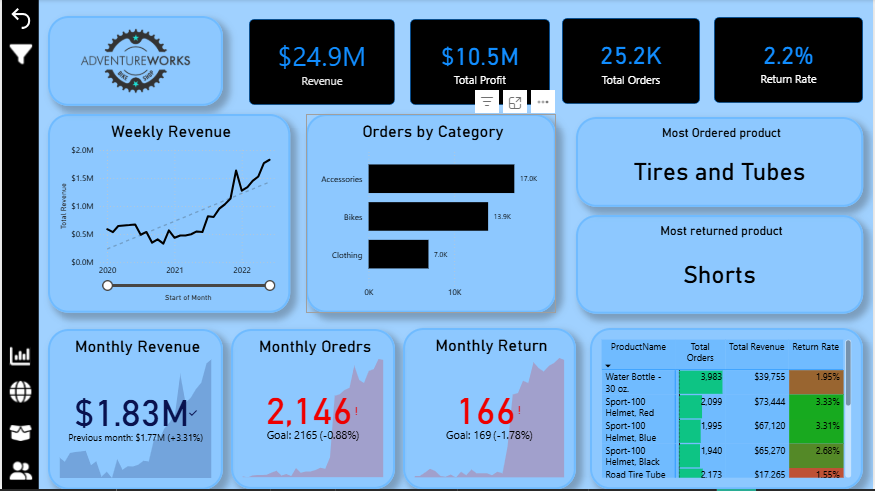

The dashboard page shown, as its layout file describes it:
{"tool":"powerbi","page":{"name":"Executive Dashboard","canvas":[1280,720],"ordinal":0},"visuals":[{"type":"image","box":[67.6,25,257.1,132.2],"z":0},{"type":"group","id":"g1","title":"KPI Background","box":[362.9,26.4,901.7,129.1],"z":0,"group":"g3"},{"type":"shape","box":[362.9,28.9,214.5,126.3],"z":0,"group":"g1"},{"type":"card","fields":{"Values":["Sum(Sales Data.Revenue)"]},"box":[362.9,29.3,214.5,126.3],"z":0,"group":"g2"},{"type":"actionButton","box":[7.3,499.6,38.5,51.4],"z":0,"group":"g4"},{"type":"shape","title":"Left Nav Background","box":[0,0,54.4,720],"z":1000},{"type":"group","id":"g2","title":"KPI Values","box":[362.9,26.4,901.7,129.1],"z":1000,"group":"g3"},{"type":"shape","box":[823,28.3,202.8,126.3],"z":1000,"group":"g1"},{"type":"card","fields":{"Values":["Measure Table.Total Profit"]},"box":[599.3,29.3,205.7,123.4],"z":1000,"group":"g2"},{"type":"actionButton","box":[7.3,545.2,39.8,64.7],"z":1000,"group":"g4"},{"type":"group","id":"g3","title":"KPIs","box":[362.9,26.4,902.2,130.8],"z":2000},{"type":"card","fields":{"Values":["Measure Table.Total Orders"]},"box":[822.5,27.8,202.8,124.8],"z":2000,"group":"g2"},{"type":"shape","box":[598.9,28.9,205.7,126.3],"z":2000,"group":"g1"},{"type":"actionButton","box":[7.8,609.4,40,55.8],"z":2000,"group":"g4"},{"type":"card","fields":{"Values":["Measure Table.Return Rate"]},"box":[1045.8,26.4,218.9,126.3],"z":3000,"group":"g2"},{"type":"shape","box":[1046.2,26.4,218.9,126.3],"z":3000,"group":"g1"},{"type":"lineChart","title":"Weekly Revenue","fields":{"Y":["Measure Table.Total Revenue"],"Category":["Calendar Lookup.Start of Year","Calendar Lookup.Start of Quarter","Calendar Lookup.Date Hierarchy.Start of Month"]},"box":[67.6,169,355.6,292.4],"z":3000},{"type":"actionButton","box":[7.8,665.2,41.1,54.4],"z":3000,"group":"g4"},{"type":"kpi","title":"Monthly Revenue","fields":{"Indicator":["Measure Table.Total Revenue"],"TrendLine":["Calendar Lookup.Date Hierarchy.Start of Month"],"Goal":["Measure Table.Previous Month Revenue"]},"box":[67.9,484.5,257.4,236],"z":4000},{"type":"kpi","title":"Monthly Oredrs","fields":{"Indicator":["Measure Table.Total Orders"],"TrendLine":["Calendar Lookup.Start of Month"],"Goal":["Measure Table.Previous Month Orders"]},"box":[336.5,484.9,241,235.1],"z":5000},{"type":"kpi","title":"Monthly Return","fields":{"Indicator":["Measure Table.Total Returns"],"TrendLine":["Calendar Lookup.Start of Month"],"Goal":["Measure Table.Previous Month Returns"]},"box":[589.2,483.4,254.2,236.6],"z":6000},{"type":"clusteredBarChart","title":"Orders by Category","fields":{"Category":["Product Categories Lookup.CategoryName"],"Y":["Measure Table.Total Orders"]},"box":[446.7,169,367.3,292.4],"z":7000},{"type":"pivotTable","fields":{"Rows":["Product Lookup.ProductName"],"Values":["Measure Table.Total Orders","Measure Table.Total Revenue","Measure Table.Return Rate"]},"box":[864,483.4,401.1,236.6],"z":8000},{"type":"card","title":"Most Ordered product","fields":{"Values":["Min(Product Subcategories Lookup.SubcategoryName)"]},"box":[843.4,173.4,421.7,132.2],"z":9000},{"type":"card","title":"Most returned product","fields":{"Values":["Min(Product Subcategories Lookup.SubcategoryName)"]},"box":[843.4,317.4,421.7,145.5],"z":10000},{"type":"actionButton","box":[7.3,5.9,41.1,45.6],"z":11000},{"type":"group","id":"g4","title":"Page Navigation","box":[7.3,499.6,41.1,220.4],"z":12000},{"type":"actionButton","box":[7.3,51.4,41.1,58.8],"z":14000}]}

Visuals, with their boxes on the page's 1280x720 design canvas (x1, y1, x2, y2). These are canvas units, not pixel positions in the 875x491 screenshot, which may show the page scaled, cropped or inside an application window:
image: (68,25,325,157)
"KPI Background" group: (363,26,1265,156)
shape: (363,29,577,155)
card - Sum(Sales Data.Revenue): (363,29,577,156)
actionButton: (7,500,46,551)
"Left Nav Background" shape: (0,0,54,720)
"KPI Values" group: (363,26,1265,156)
shape: (823,28,1026,155)
card - Measure Table.Total Profit: (599,29,805,153)
actionButton: (7,545,47,610)
"KPIs" group: (363,26,1265,157)
card - Measure Table.Total Orders: (822,28,1025,153)
shape: (599,29,805,155)
actionButton: (8,609,48,665)
card - Measure Table.Return Rate: (1046,26,1265,153)
shape: (1046,26,1265,153)
"Weekly Revenue" lineChart: (68,169,423,461)
actionButton: (8,665,49,720)
"Monthly Revenue" kpi: (68,484,325,720)
"Monthly Oredrs" kpi: (336,485,578,720)
"Monthly Return" kpi: (589,483,843,720)
"Orders by Category" clusteredBarChart: (447,169,814,461)
pivotTable - Product Lookup.ProductName x Measure Table.Total Orders: (864,483,1265,720)
"Most Ordered product" card: (843,173,1265,306)
"Most returned product" card: (843,317,1265,463)
actionButton: (7,6,48,52)
"Page Navigation" group: (7,500,48,720)
actionButton: (7,51,48,110)
